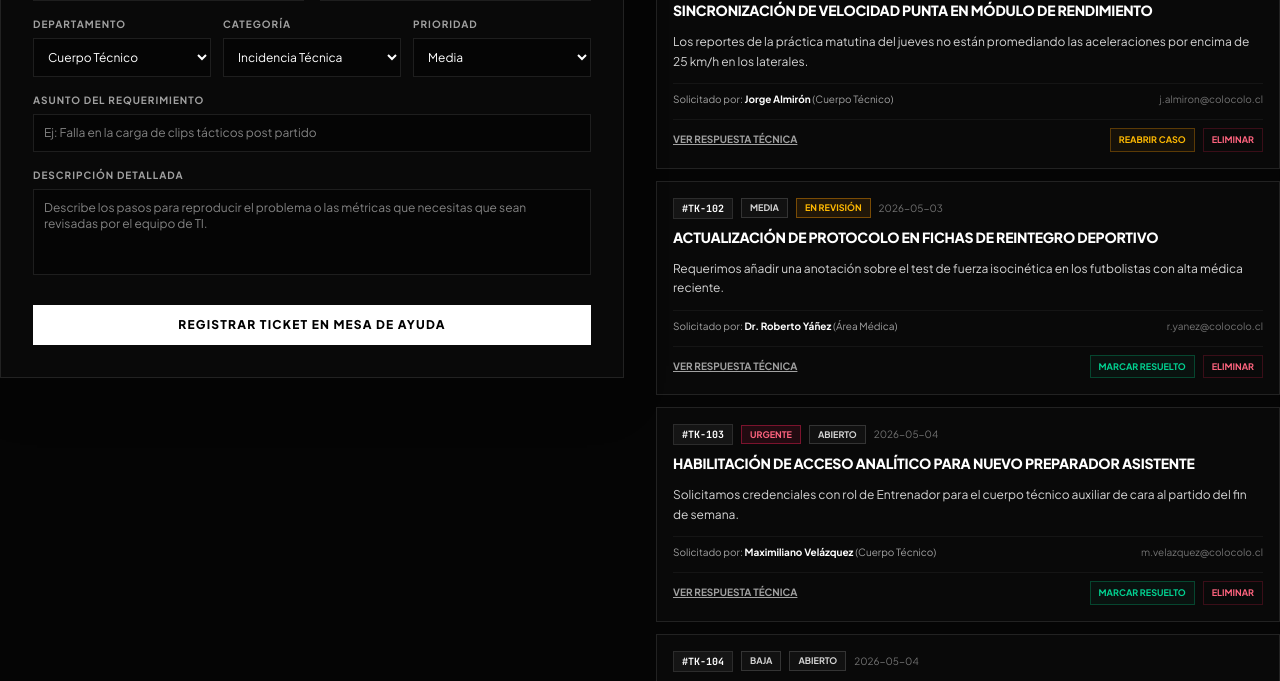
Test: Módulo de Soporte Técnico y Contacto (Pantalla 8) › bloquea el envío y muestra errores de validación propios cuando los campos son inválidos
(page scrolled)
Click the button "Registrar Ticket en Mesa de Ayuda".
click(312, 324)  # box [33, 304, 591, 344]
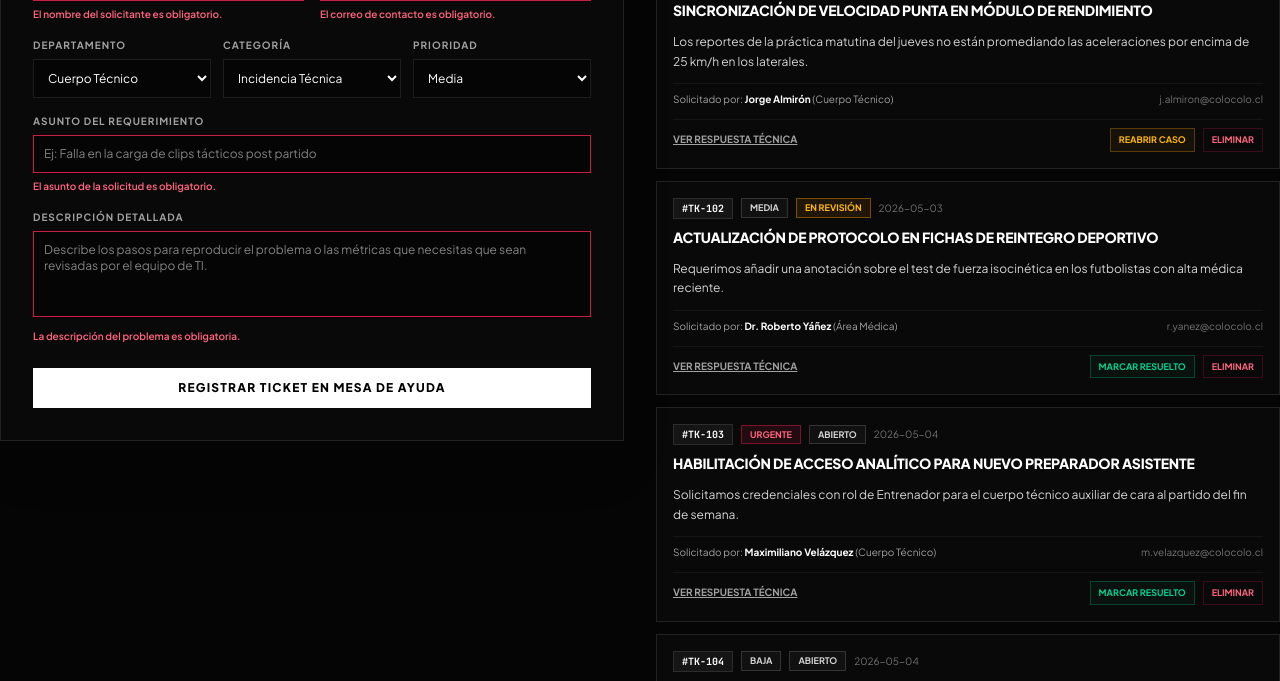
Expected: the text "El nombre del solicitante es obligatorio." is shown, [33, 8, 222, 20]
Expected: the text "El correo de contacto es obligatorio." is shown, [320, 8, 496, 20]
Expected: the text "El asunto de la solicitud es obligatorio." is shown, [33, 180, 216, 192]
